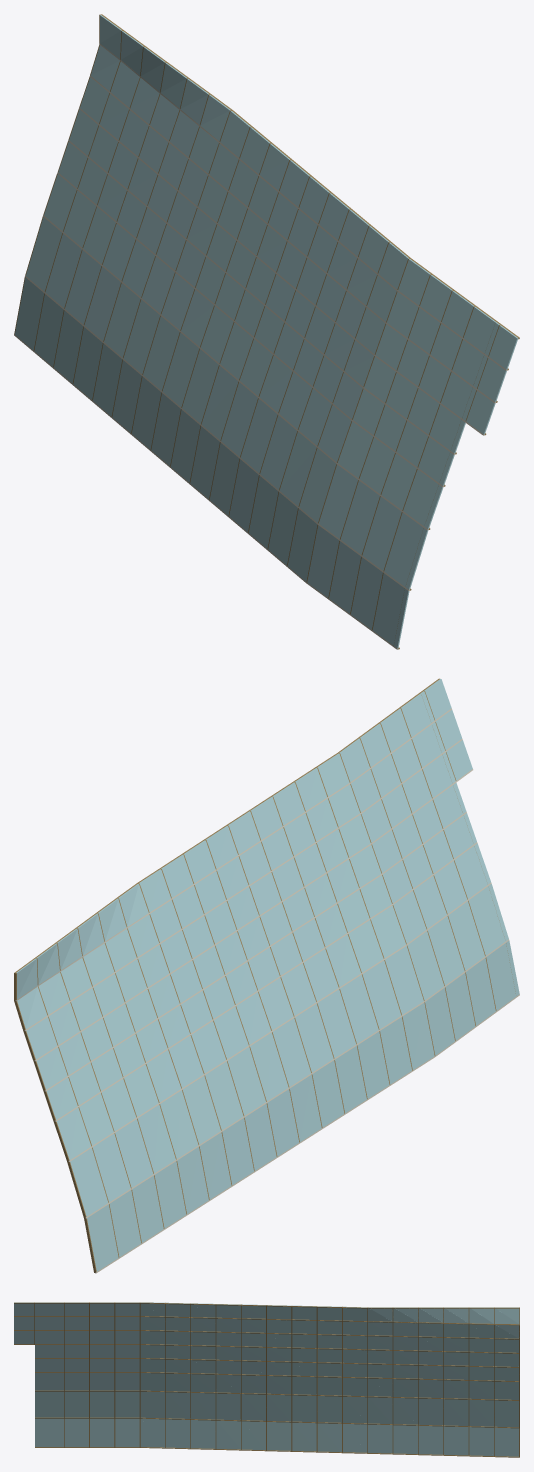
File: G7_Completion_Body_-1_01.glb
The picture shows the model from 3 angles, top to bottom: view 1: azimuth 30°, elevation 25°; view 2: azimuth 150°, elevation 25°; view 3: azimuth 270°, elevation 25°; orthographic projection. The views are drawn at different scales.
Visible parts, largest first — view 1: Body_-1_01_G7C3_glass_solid_skin, Body_-1_01_G7C3_metal_solid_skin, Body_-1_01_G7C3_shell_solid_skin, Body_-1_01_G7C3_metal_solid_frame; view 2: Body_-1_01_G7C3_glass_solid_skin, Body_-1_01_G7C3_metal_solid_skin, Body_-1_01_G7C3_shell_solid_skin, Body_-1_01_G7C3_metal_solid_frame; view 3: Body_-1_01_G7C3_glass_solid_skin, Body_-1_01_G7C3_metal_solid_frame.
Boxes of the visible parts, bbox=[...] form: Body_-1_01_G7C3_glass_solid_skin: bbox=[15, 15, 518, 648]; Body_-1_01_G7C3_metal_solid_skin: bbox=[14, 14, 500, 645]; Body_-1_01_G7C3_shell_solid_skin: bbox=[14, 43, 507, 649]; Body_-1_01_G7C3_metal_solid_frame: bbox=[101, 14, 519, 649]; Body_-1_01_G7C3_glass_solid_skin: bbox=[16, 679, 519, 1271]; Body_-1_01_G7C3_metal_solid_skin: bbox=[15, 691, 515, 1271]; Body_-1_01_G7C3_shell_solid_skin: bbox=[15, 708, 519, 1273]; Body_-1_01_G7C3_metal_solid_frame: bbox=[14, 678, 439, 1272]; Body_-1_01_G7C3_glass_solid_skin: bbox=[14, 1302, 519, 1456]; Body_-1_01_G7C3_metal_solid_frame: bbox=[14, 1302, 519, 1457].
Bounding box in the file's own units: 19.53 × 45.5 × 120.
Materials: 3 (2 with a texture image).
